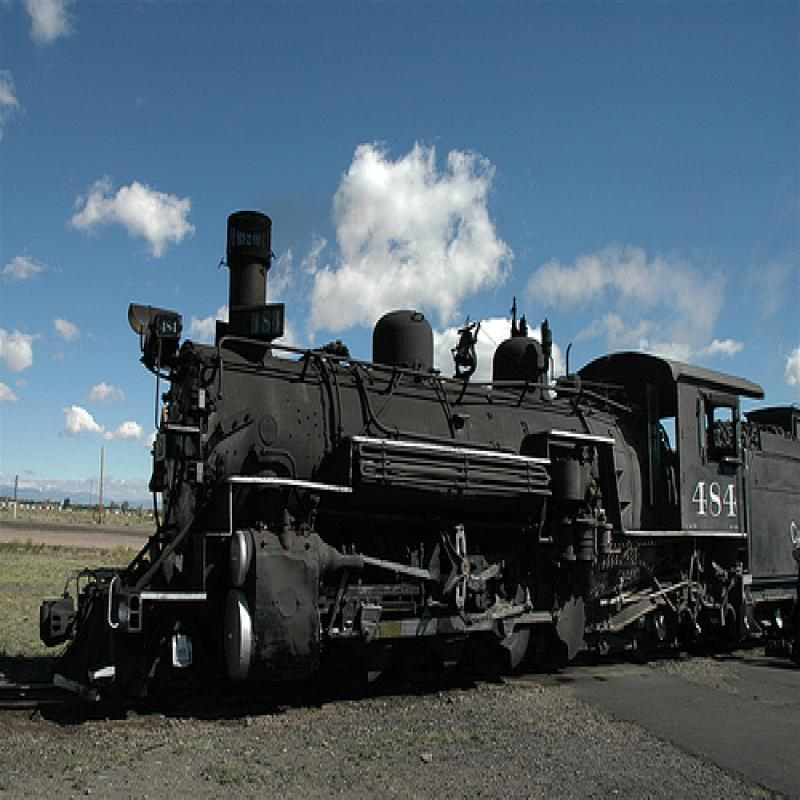train: (40, 202, 800, 716)
